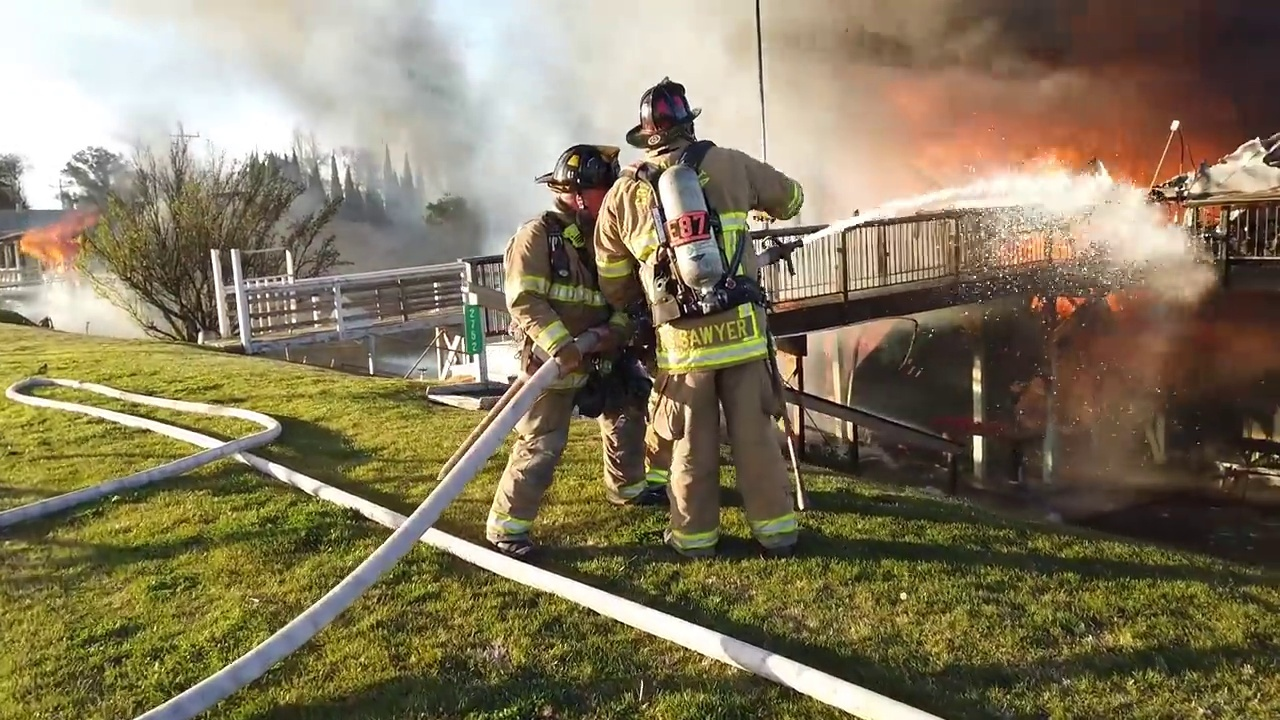fire: (15, 200, 99, 266), (1028, 287, 1079, 322), (1103, 288, 1137, 317)
smoke: (789, 1, 1280, 141), (216, 1, 542, 200), (1039, 321, 1261, 473), (68, 2, 216, 189), (544, 1, 787, 91), (272, 192, 498, 261), (11, 273, 173, 344), (793, 148, 926, 199)
